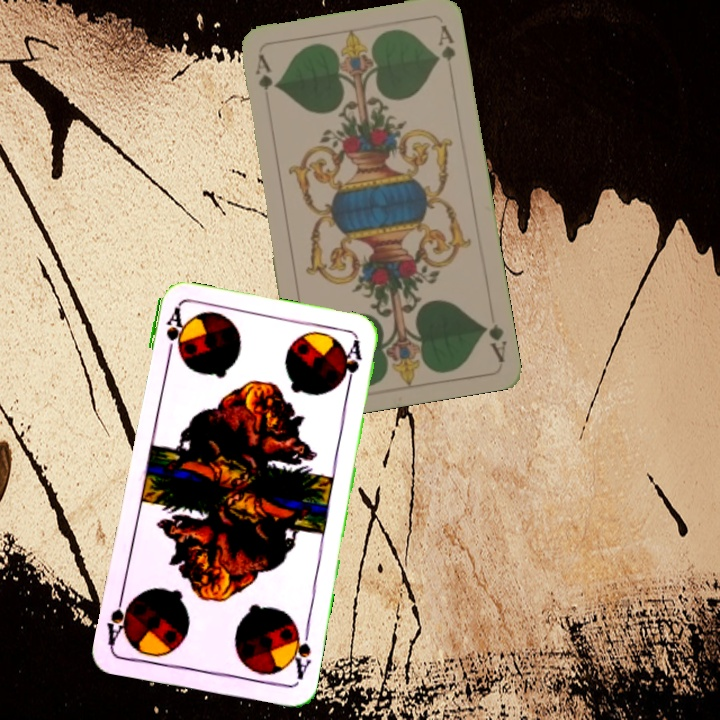GA: (479, 320, 509, 364), (251, 50, 277, 93)
SA: (285, 622, 314, 683), (162, 304, 187, 363)
